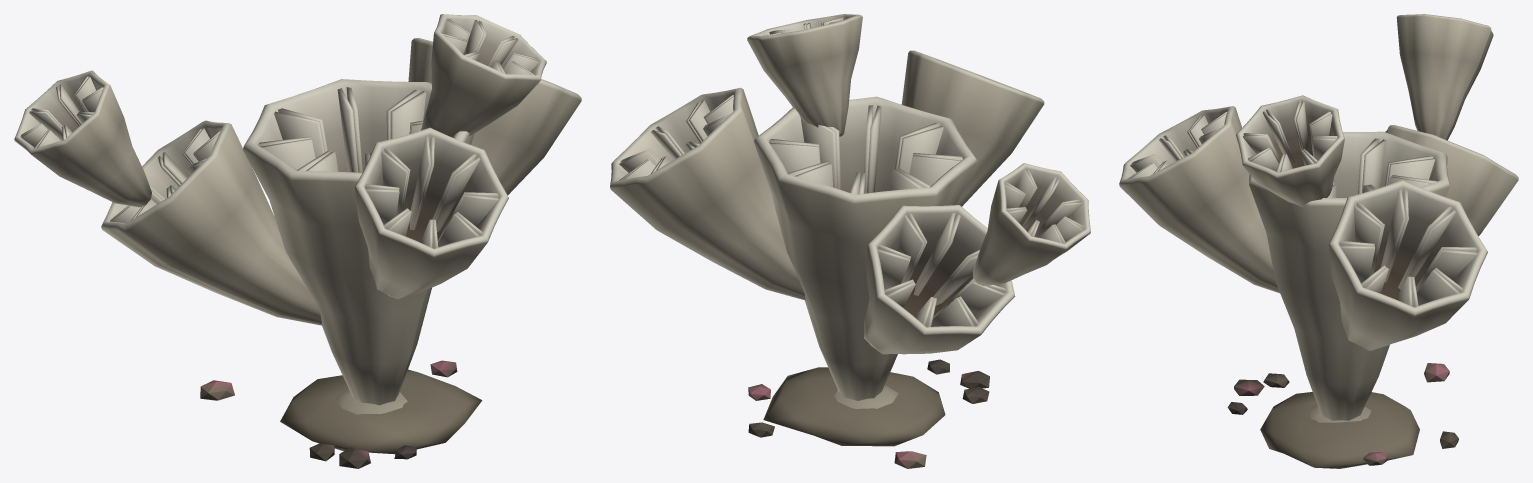
The model's file is CambroctoconusOrientalis.fbx.
The picture shows the model from 3 angles, left to right: view 1: azimuth 30°, elevation 25°; view 2: azimuth 150°, elevation 25°; view 3: azimuth 270°, elevation 25°; orthographic projection. The views are drawn at different scales.
Parts seen in each view (by area): view 1: CambroctoconusOrientalis; view 2: CambroctoconusOrientalis; view 3: CambroctoconusOrientalis.
Boxes of the visible parts, bbox=[...] form: CambroctoconusOrientalis: bbox=[14, 14, 581, 468]; CambroctoconusOrientalis: bbox=[610, 14, 1090, 468]; CambroctoconusOrientalis: bbox=[1119, 14, 1518, 468].
Bounding box in the file's own units: 2 × 1.48 × 1.47.
